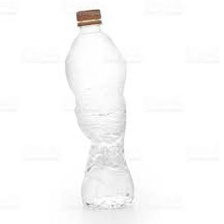bottle: (56, 4, 143, 212)
